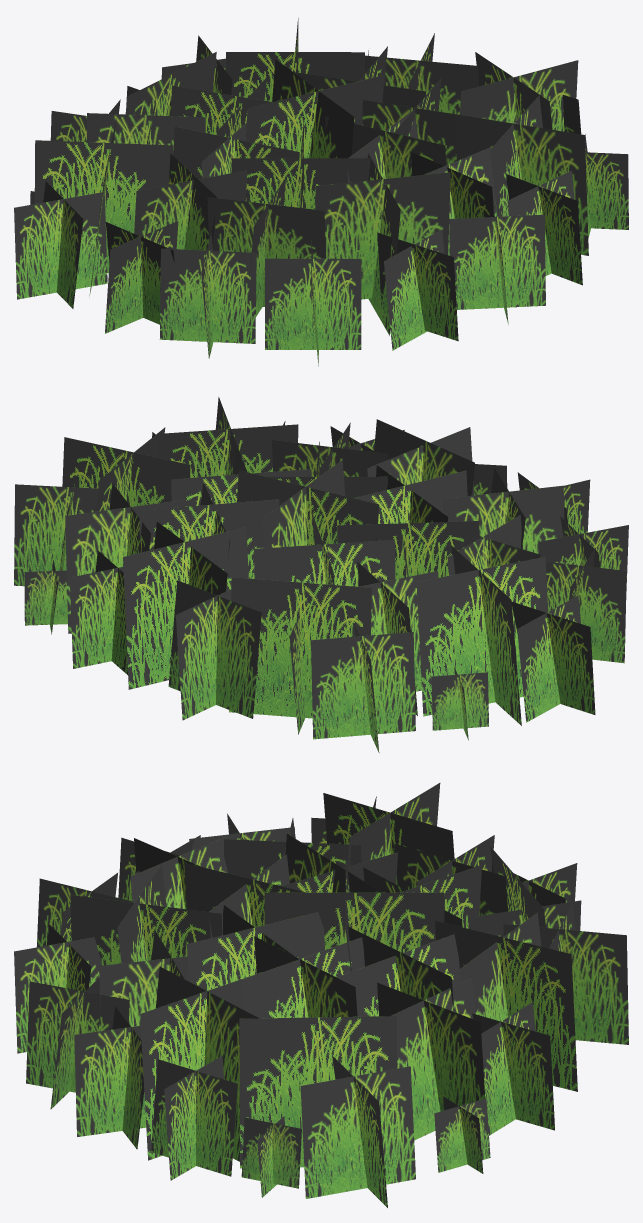
Rendered from GrassPatch.gltf.
3 renders of one model, top to bottom at view 1: azimuth 30°, elevation 25°; view 2: azimuth 150°, elevation 25°; view 3: azimuth 270°, elevation 25°, orthographic. The views are drawn at different scales.
Visible parts, largest first — view 1: GrassPatch; view 2: GrassPatch; view 3: GrassPatch.
Boxes of the visible parts, left/top/right/bottom form: GrassPatch: left=14, top=18, right=628, bottom=366; GrassPatch: left=14, top=397, right=628, bottom=752; GrassPatch: left=14, top=783, right=628, bottom=1207.
Size of the model in its own units: 65.77 by 16.62 by 54.95.
Materials: 1 (1 with a texture image).
